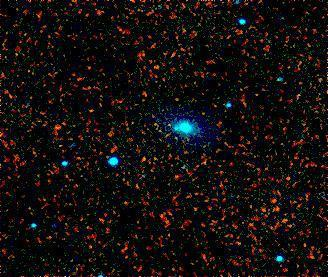star: (42, 113, 72, 143)
